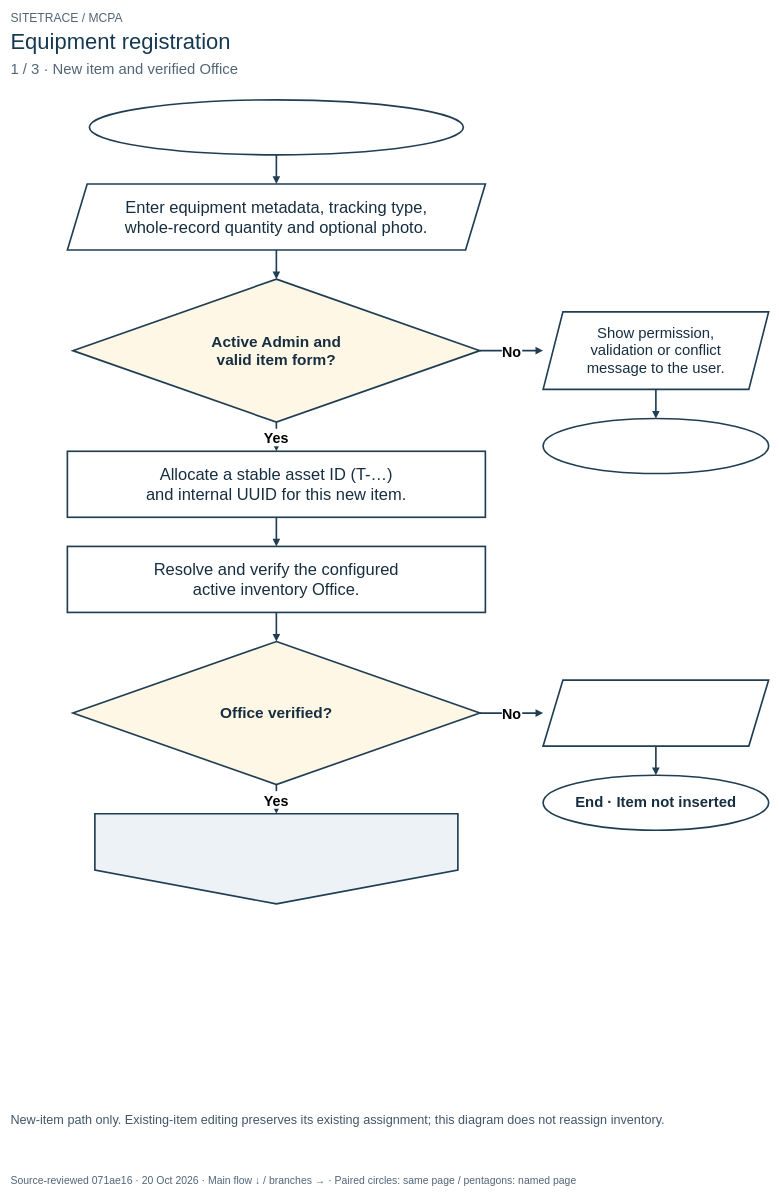
The diagram is 779 pixels wide and 1198 high, and some of its shapes have lost their labels. The centre of each missing label's shape, as x and y in pixels:
"A · To page 2 Prepare optional photo" belongs at [276,858].
"End · No change saved" belongs at [655,445].
"Show Office configuration error; preserve the form." belongs at [655,713].
"Start · Admin adds equipment" belongs at [276,127].
